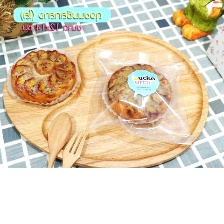snack: (81, 41, 196, 148)
